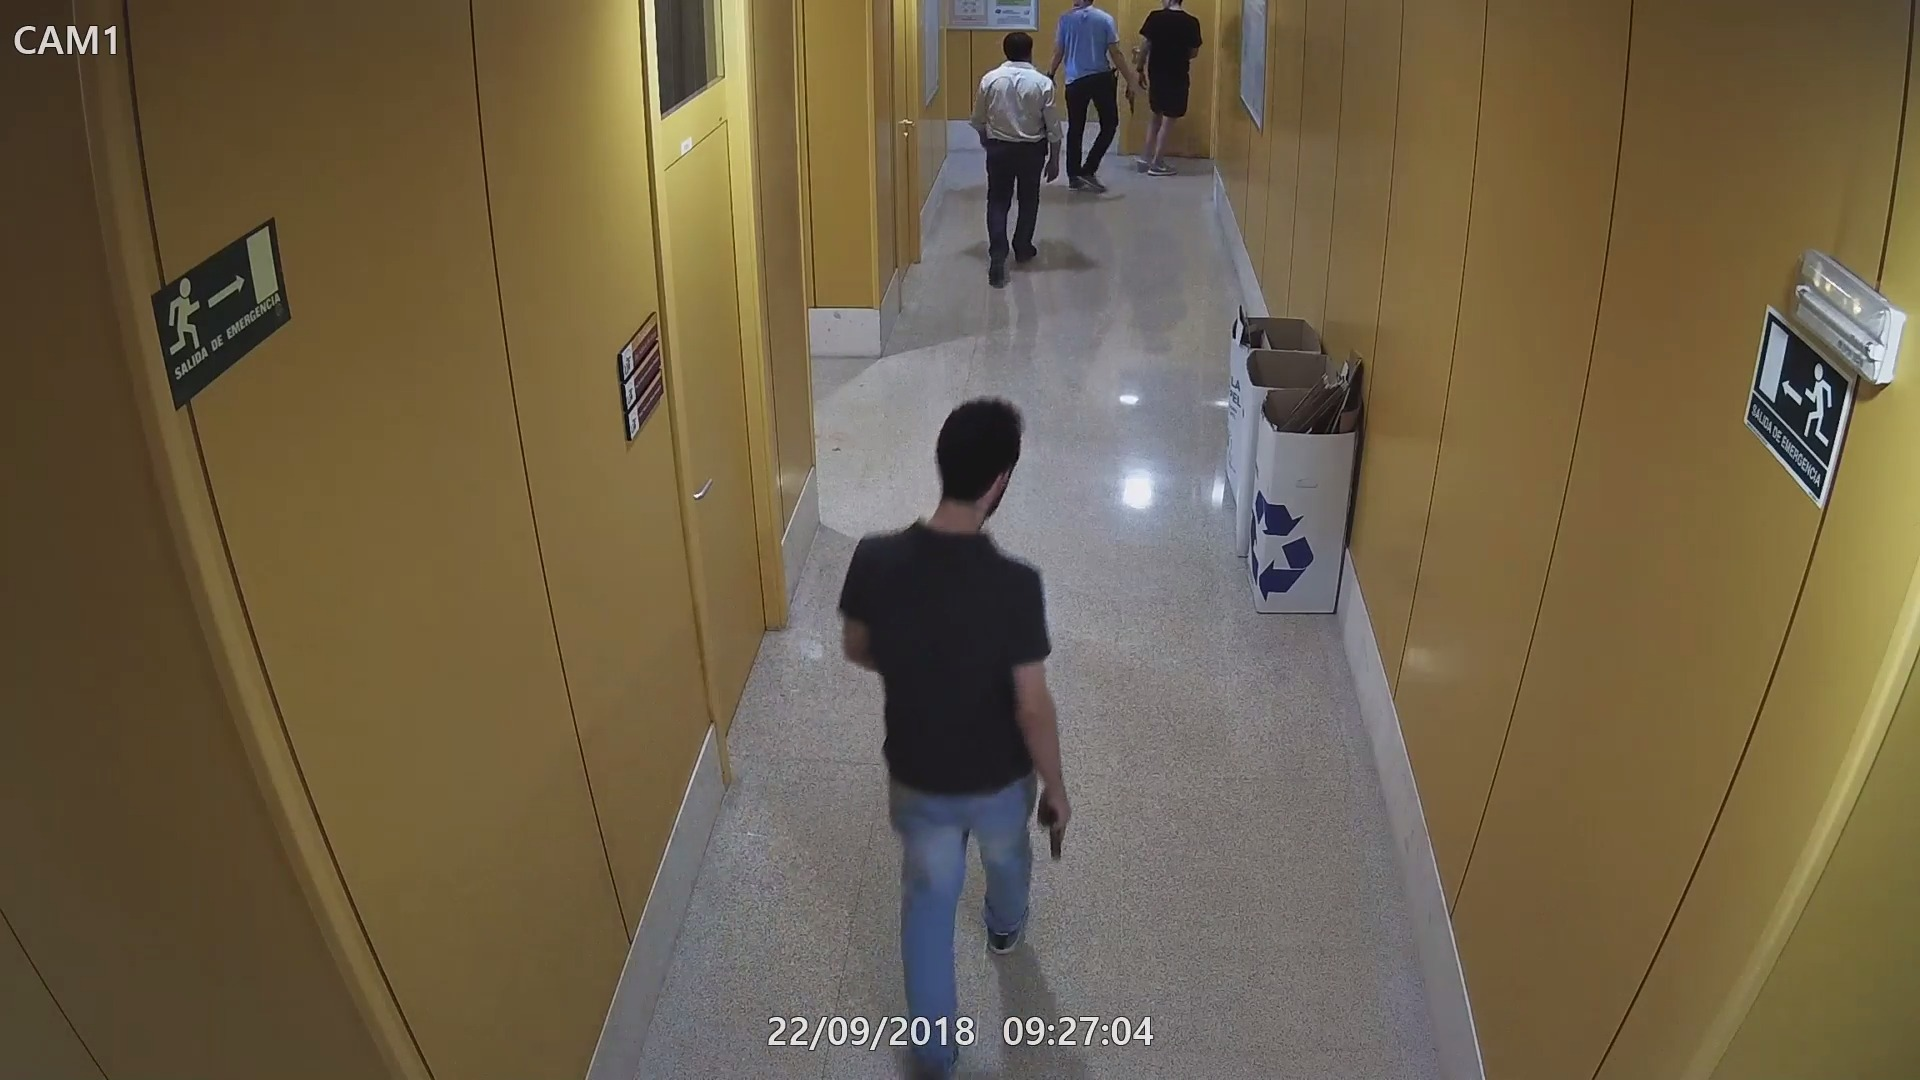Handgun: (1035, 778, 1073, 864), (1117, 73, 1143, 117)
